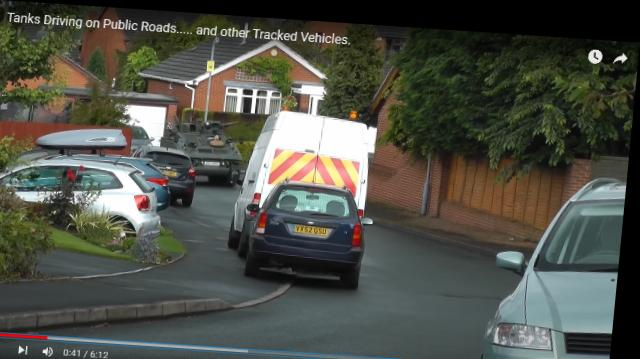tank: (171, 116, 243, 162)
